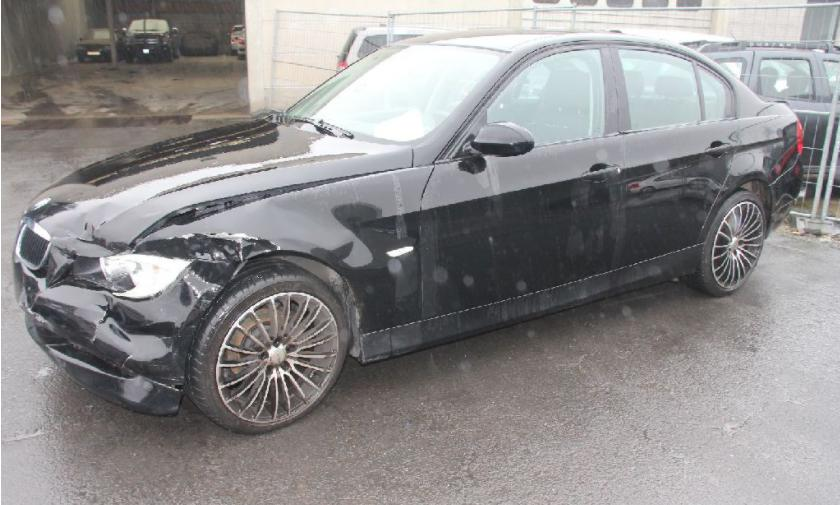Back-bumper: (763, 153, 803, 239)
Back-door: (609, 40, 740, 269)
Back-wheel: (677, 187, 766, 297)
Back-window: (619, 49, 701, 129), (698, 65, 732, 120)
Fender: (130, 165, 435, 335)
Front-bumper: (13, 245, 247, 417)
Front-door: (420, 41, 624, 320)
Front-wheel: (182, 256, 347, 434)
Front-window: (487, 49, 605, 144)
Grille: (15, 216, 52, 271)
Headlight: (73, 251, 196, 301)
Hood: (22, 114, 414, 260)
Mirror: (447, 110, 536, 158)
Quarter-panel: (697, 102, 798, 244)
Rocker-panel: (358, 243, 704, 364)
Roof: (384, 27, 643, 52)
Tail-light: (797, 118, 804, 154)
Windshield: (280, 44, 509, 142)
